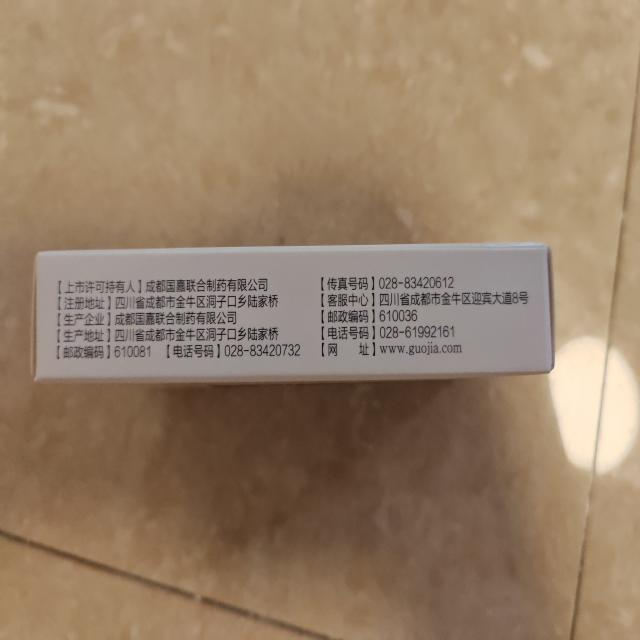box: (24, 237, 564, 396)
